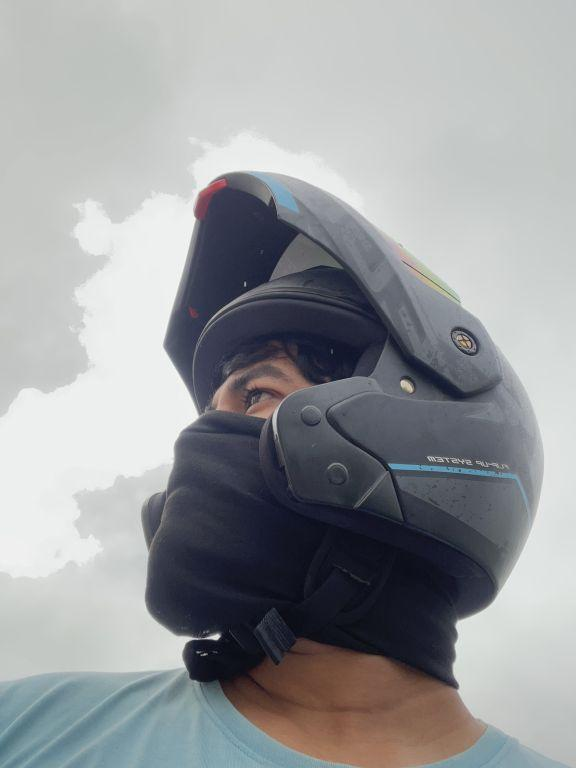helmet: (125, 147, 549, 669)
